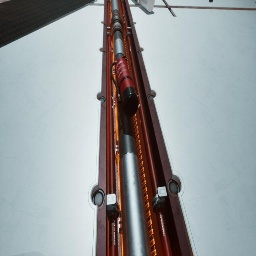0: (134, 0, 155, 13)
FireExtinguisher ]: (110, 55, 139, 117)
